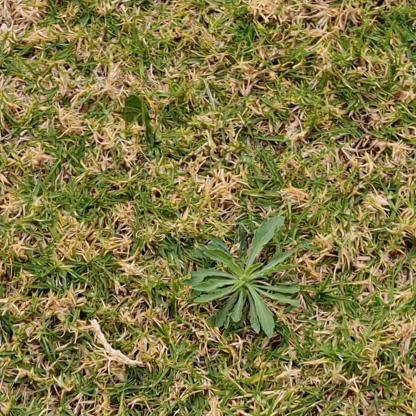Weeds: (181, 215, 301, 338)
